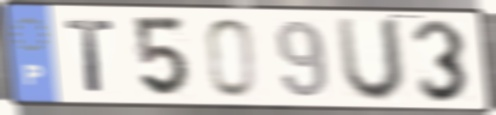0: (202, 15, 262, 102)
3: (411, 18, 472, 106)
5: (130, 14, 194, 101)
9: (274, 18, 331, 101)
T: (62, 17, 117, 96)
U: (333, 15, 407, 105)
